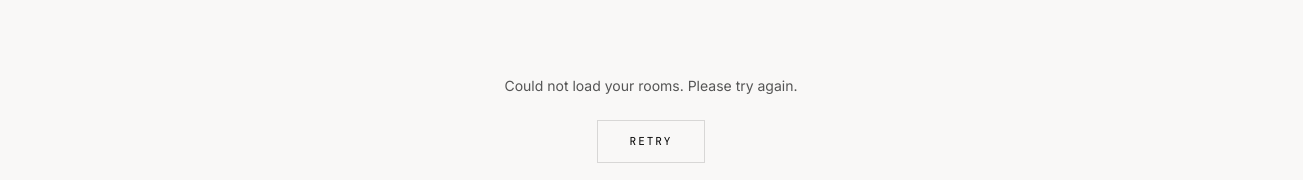
Test: MyRoomsList › shows an error with retry when the request fails
Expected: the message "Could not load your rooms. Please try again. RETRY" is shown, [504,77,798,162]
Click the button "RETRY" at [651, 141], box [596,120,705,162]
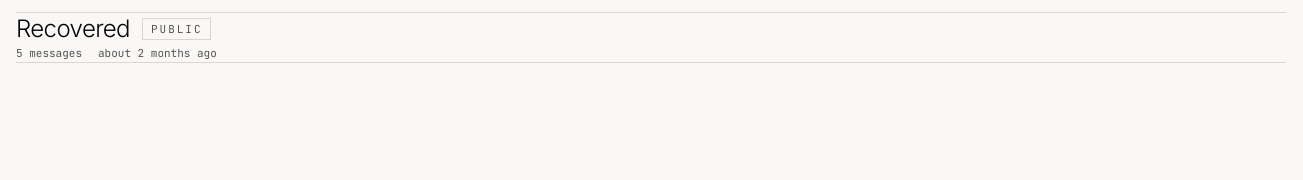
Expected: the text "Recovered" is shown, [16,13,130,45]
